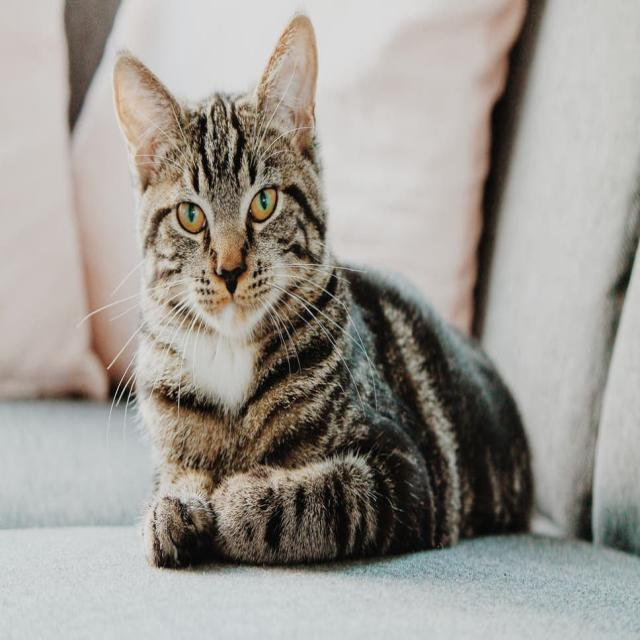cat: (113, 114, 405, 405)
